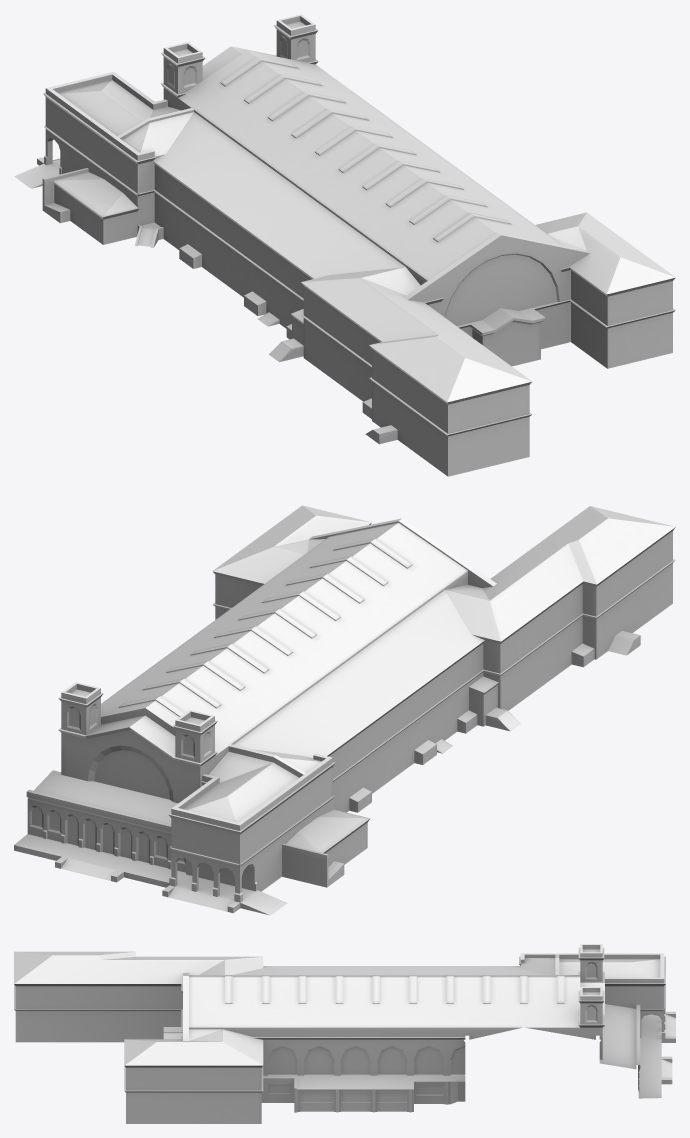
Rendered from baltiyskiyrws.dae.
3 renders of one model, top to bottom at view 1: azimuth 30°, elevation 25°; view 2: azimuth 150°, elevation 25°; view 3: azimuth 270°, elevation 25°, orthographic. The views are drawn at different scales.
Parts seen in each view (by area): view 1: baltiyskiyrws; view 2: baltiyskiyrws; view 3: baltiyskiyrws.
Boxes of the visible parts, x1,y1,x2,y2 form: baltiyskiyrws: [14, 14, 675, 476]; baltiyskiyrws: [14, 505, 675, 915]; baltiyskiyrws: [14, 944, 675, 1123].
Bounding box in the file's own units: 0.0989 × 0.2211 × 0.0377.
1 material, 1 textured.
